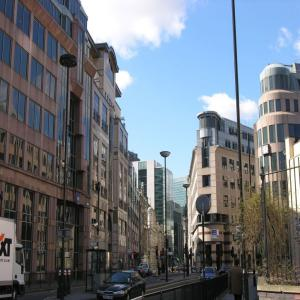Vehicle-registration-plate: (104, 296, 114, 300)
